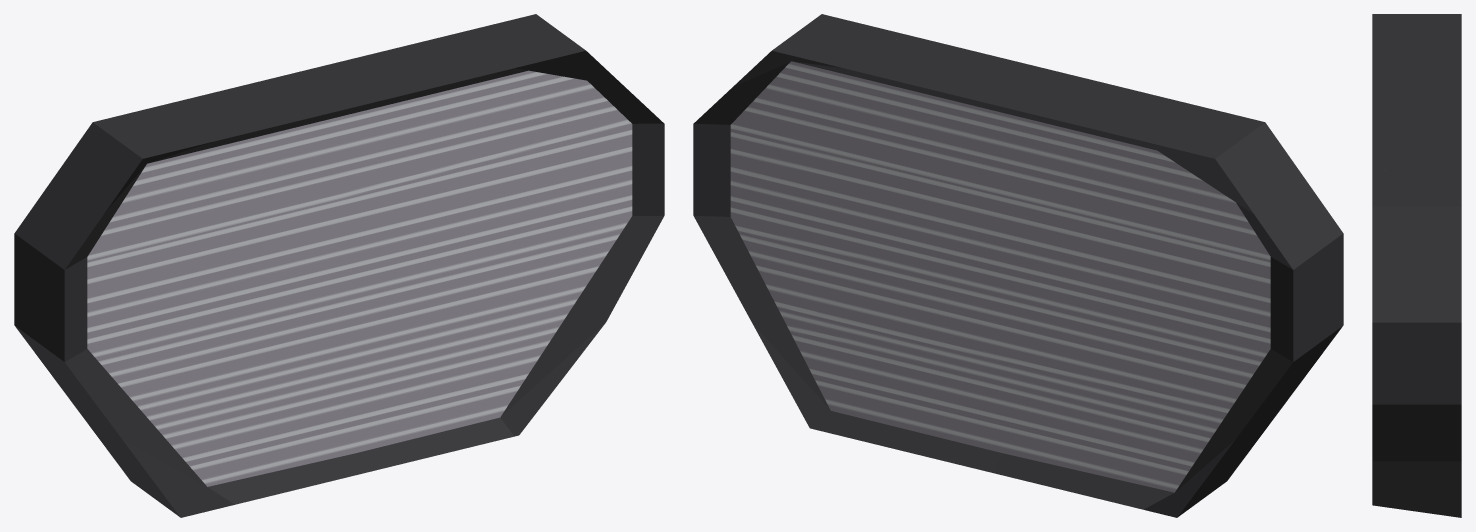
The model's file is board.fbx.
The picture shows the model from 3 angles, left to right: view 1: azimuth 30°, elevation 25°; view 2: azimuth 150°, elevation 25°; view 3: azimuth 270°, elevation 25°; orthographic projection. The views are drawn at different scales.
Parts seen in each view (by area): view 1: board; view 2: board; view 3: board.
Part boxes in pixels (x1,y1,x2,y2): board: [14, 14, 664, 517]; board: [693, 14, 1343, 517]; board: [1372, 14, 1461, 517].
Size of the model in its own units: 221 by 130 by 32.06.
